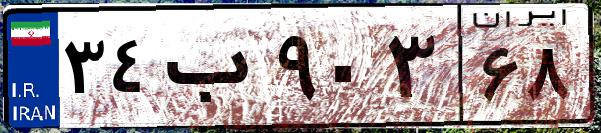0: (330, 28, 385, 110)
3: (385, 28, 445, 110), (57, 26, 110, 100)
4: (110, 28, 158, 98)
6: (475, 38, 525, 113)
8: (525, 38, 570, 115)
9: (270, 28, 330, 110)
ب: (158, 20, 270, 120)
